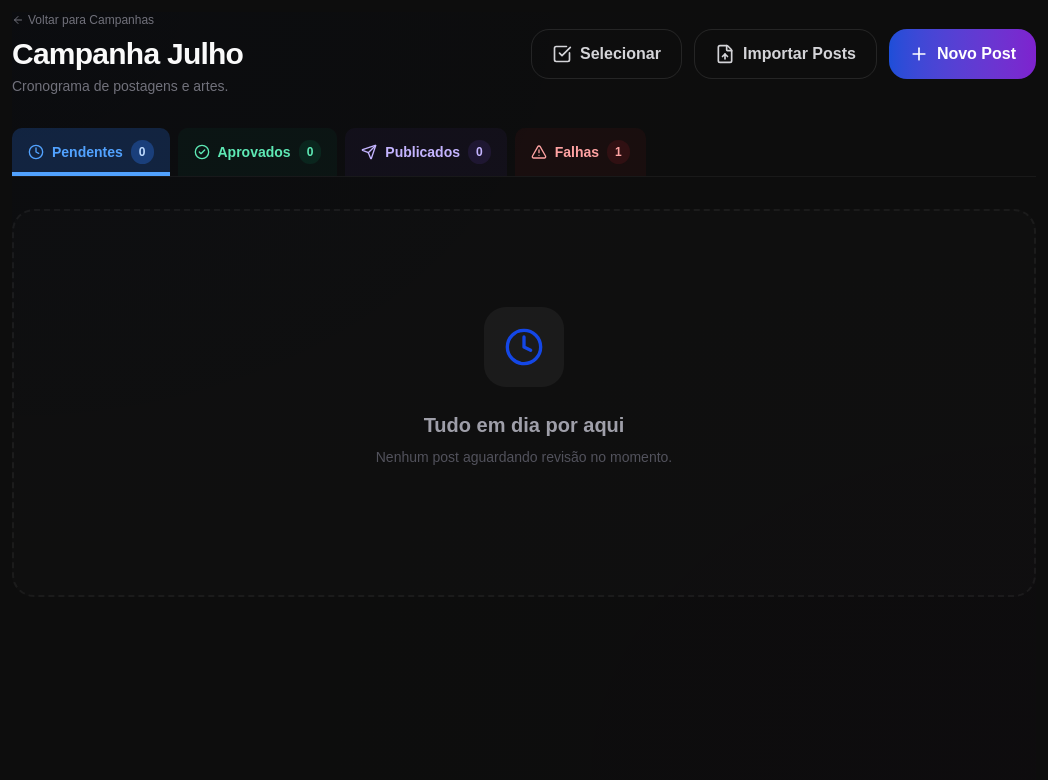
Test case: PostsPage — resultado da publicação › falha na publicação › não some da tela quando a Meta não deu motivo
Click the button "Falhas 1". click: {"x": 580, "y": 152}
box: [515,128,646,176]
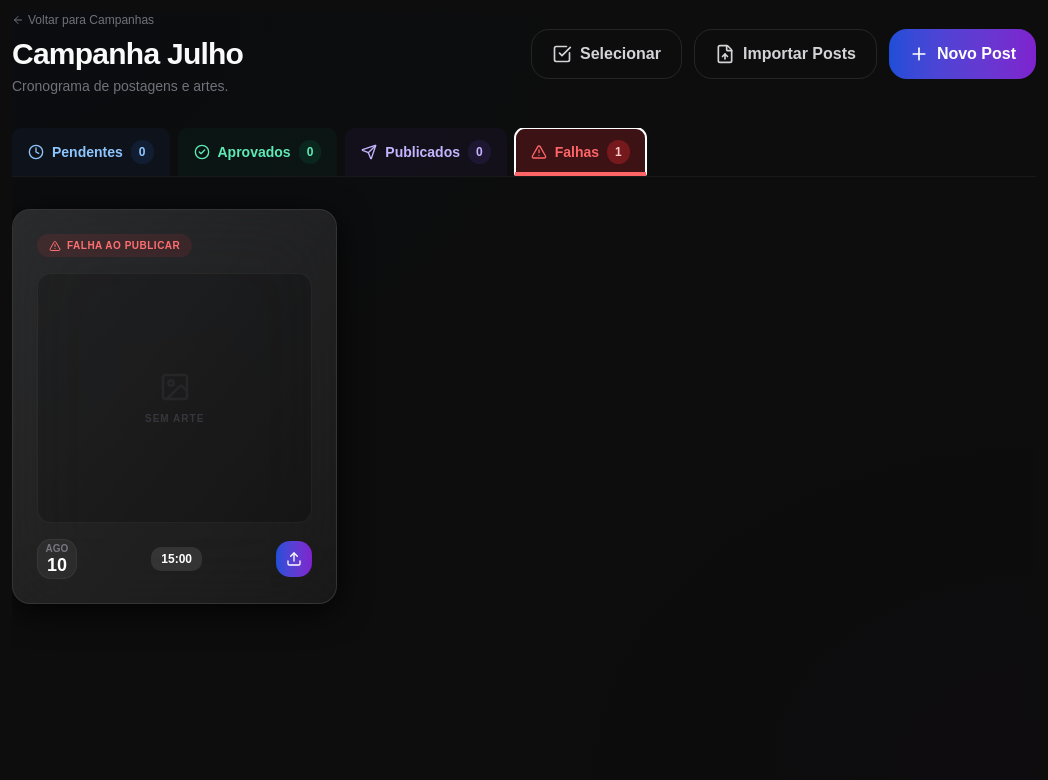
Expected: the text "Falha ao publicar" is shown, [37,234,192,257]
